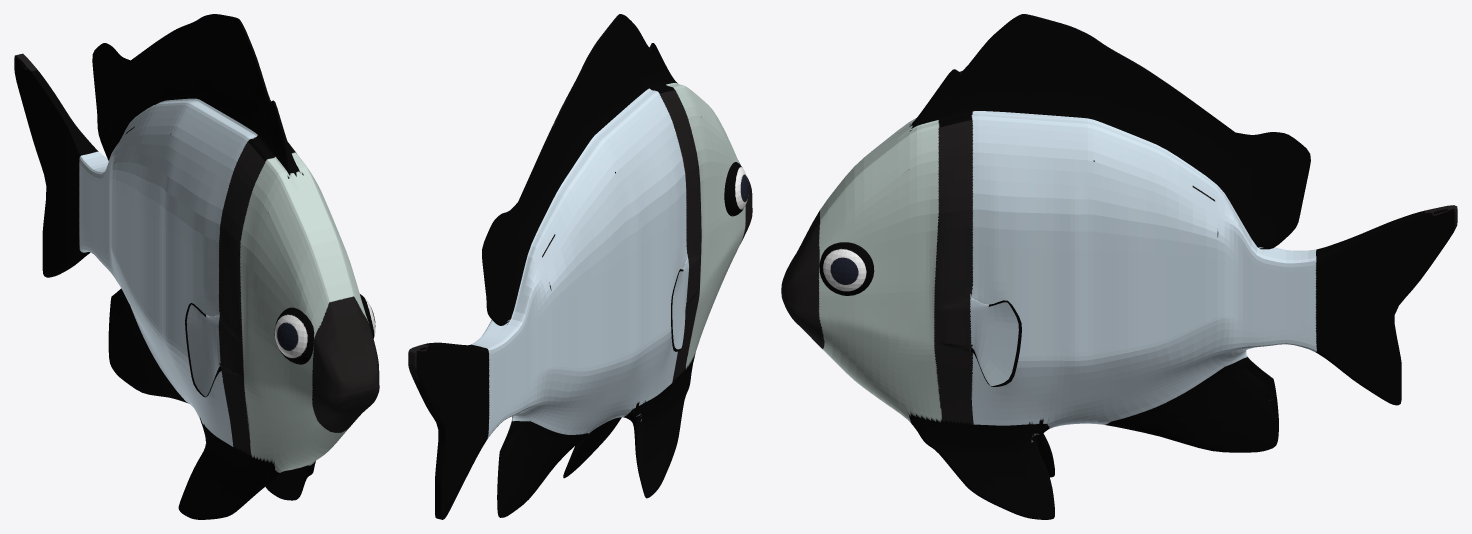
File: damselfish.fbx
3 views of the same model, side by side, from view 1: azimuth 30°, elevation 25°; view 2: azimuth 150°, elevation 25°; view 3: azimuth 270°, elevation 25° (orthographic). The views are drawn at different scales.
Parts seen in each view (by area): view 1: Cube, Sphere; view 2: Cube, Sphere; view 3: Cube, Sphere.
Part boxes in pixels (x1=…): Cube: x1=14, y1=14, x2=379, y2=519; Sphere: x1=274, y1=294, x2=375, y2=364; Cube: x1=408, y1=14, x2=752, y2=519; Sphere: x1=724, y1=162, x2=748, y2=216; Cube: x1=781, y1=14, x2=1457, y2=519; Sphere: x1=819, y1=242, x2=874, y2=295.
Size of the model in its own units: 0.0669 by 0.2832 by 0.3581.
2 materials, 2 textured.
